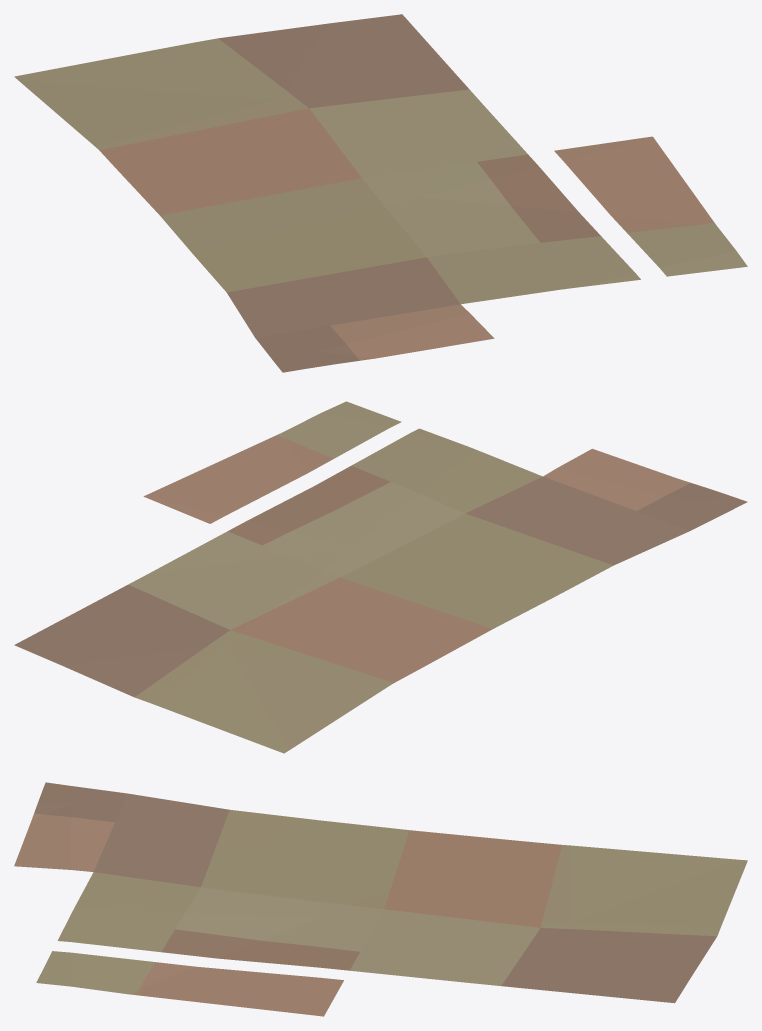
File: farm_14_21_soil.glb
3 views of the same model, one above another, from view 1: azimuth 30°, elevation 25°; view 2: azimuth 150°, elevation 25°; view 3: azimuth 270°, elevation 25° (orthographic). The views are drawn at different scales.
Parts seen in each view (by area): view 1: geometry_0; view 2: geometry_0; view 3: geometry_0.
Boxes of the visible parts, bbox=[...] form: geometry_0: bbox=[14, 14, 747, 372]; geometry_0: bbox=[14, 401, 747, 753]; geometry_0: bbox=[14, 782, 747, 1016].
Size of the model in its own units: 173 by 8.05 by 235.
